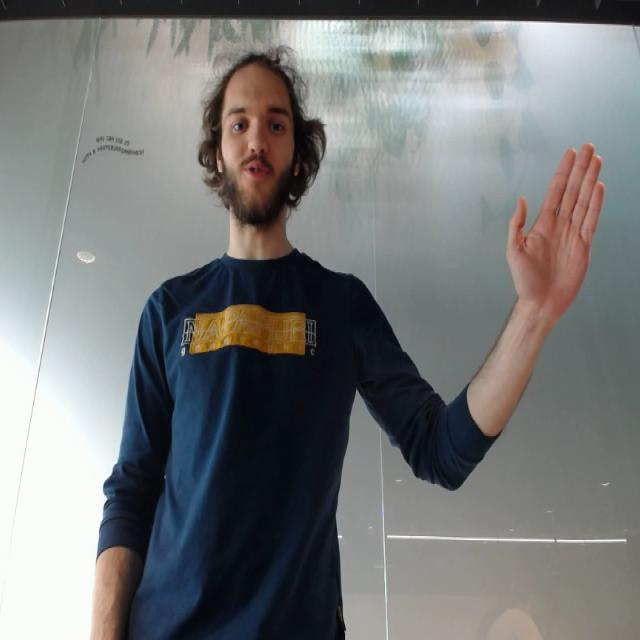backward: (504, 138, 608, 324)
